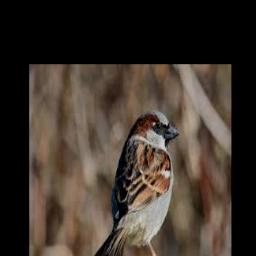Sparrow: (93, 110, 180, 256)
